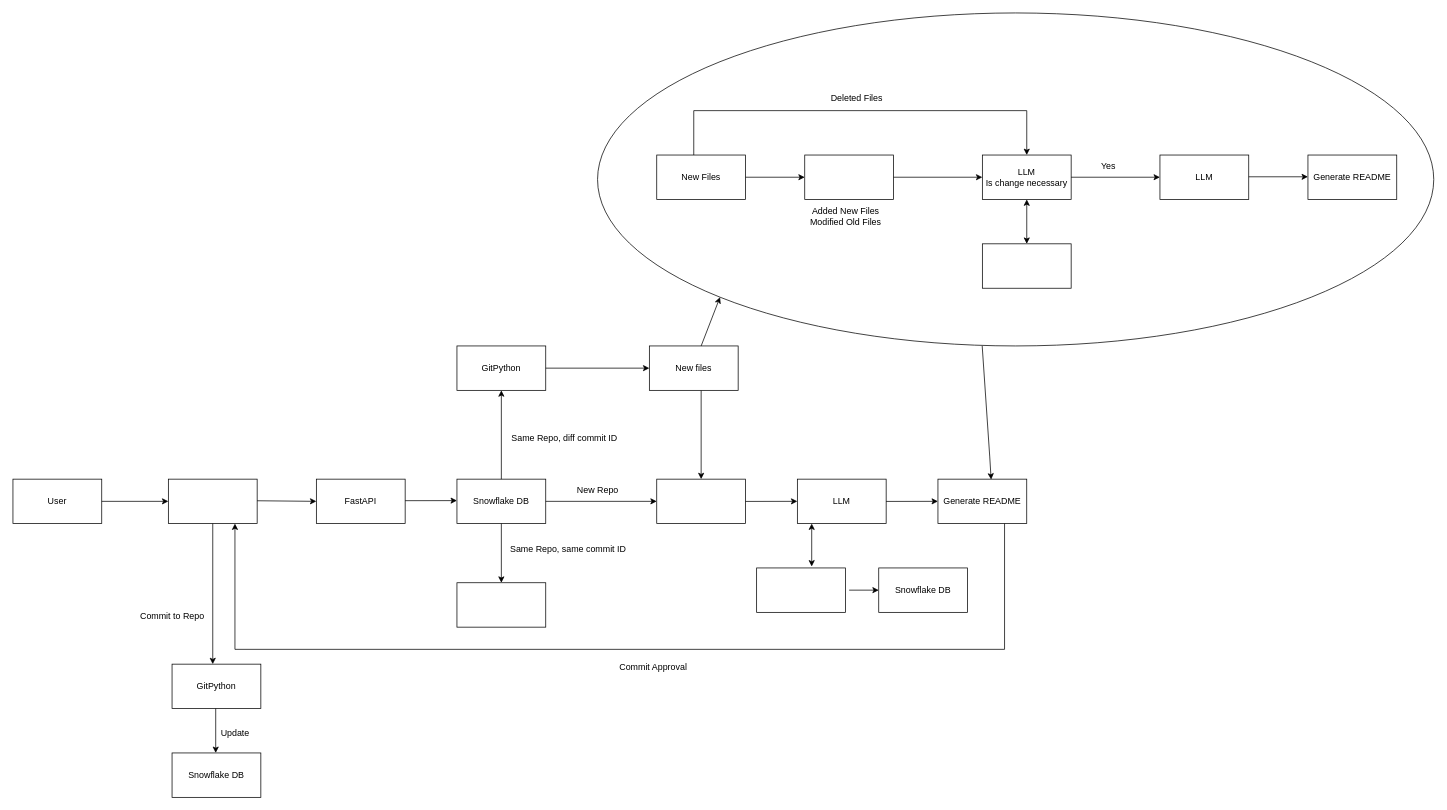
Some shapes in this 1447 by 810 pixel diagram are drawn without their labels. Here are the shapes that lost their labels. From the top down, the centre of each, then its label:
(x=849, y=176): Git Ingest file filter (.py, .sql)
(x=1026, y=265): MCP
(x=212, y=501): Streamlit
(x=701, y=501): Git Ingest file filter(.py, .sql)
(x=501, y=604): No change
(x=800, y=589): Code to Doc {code:doc}
